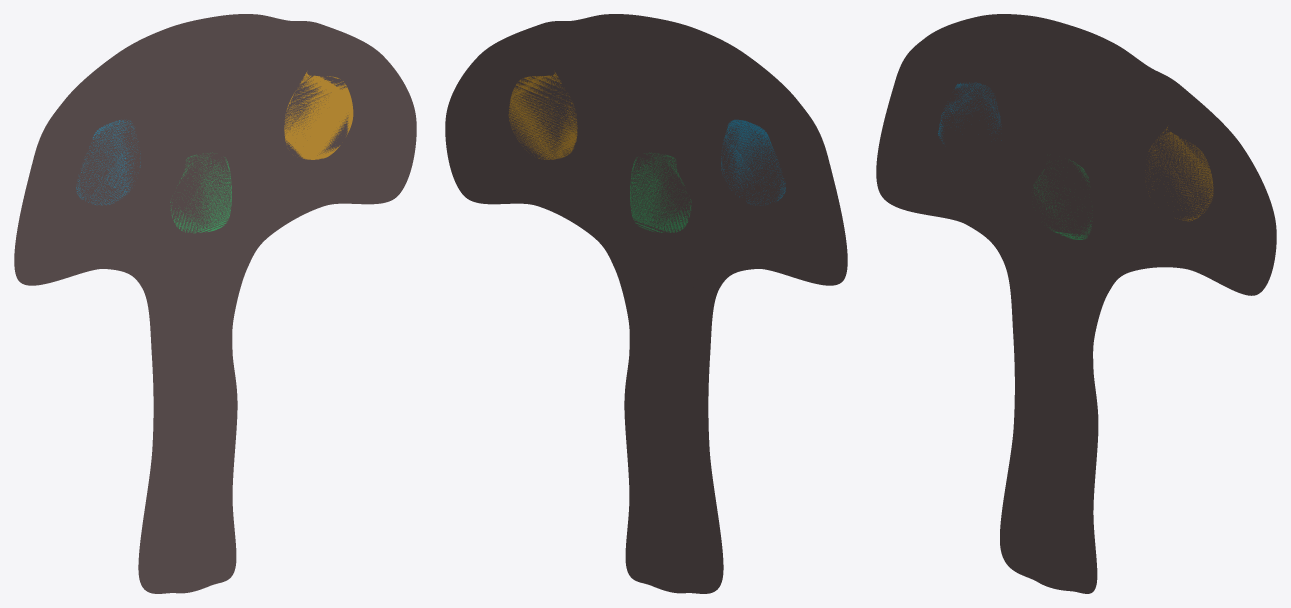
The model's file is fungo.obj.
3 renders of one model, left to right at view 1: azimuth 30°, elevation 25°; view 2: azimuth 150°, elevation 25°; view 3: azimuth 330°, elevation 25°, orthographic.
Visible parts, largest first — view 1: Curva_1, Curva_4, Curva_3, Curva_2; view 2: Curva_1, Curva_4, Curva_3, Curva_2; view 3: Curva_1, Curva_4, Curva_2.
Boxes of the visible parts, x1,y1,x2,y2 form: Curva_1: (14, 14, 416, 593); Curva_4: (284, 71, 353, 159); Curva_3: (170, 152, 231, 233); Curva_2: (76, 120, 140, 205); Curva_1: (445, 14, 847, 593); Curva_4: (508, 72, 577, 159); Curva_3: (630, 152, 691, 232); Curva_2: (721, 119, 785, 205); Curva_1: (876, 14, 1276, 593); Curva_4: (1145, 127, 1213, 221); Curva_2: (938, 82, 1001, 143).
Bounding box in the file's own units: 0.4738 × 0.6423 × 0.
